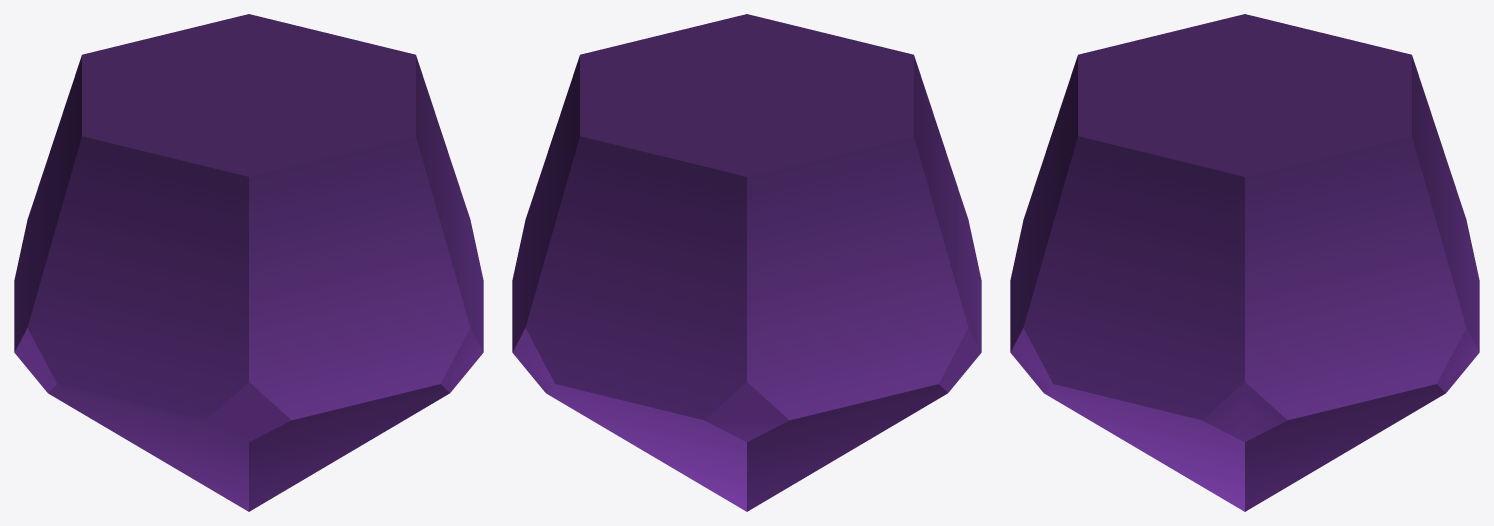
The model's file is decor_010.fbx.
3 views of the same model, side by side, from view 1: azimuth 30°, elevation 25°; view 2: azimuth 150°, elevation 25°; view 3: azimuth 270°, elevation 25° (orthographic).
Visible parts, largest first — view 1: decor.010; view 2: decor.010; view 3: decor.010.
Part boxes in pixels (box(x1,y1,x2,y2)): decor.010: box(14, 14, 483, 511); decor.010: box(512, 14, 981, 511); decor.010: box(1010, 14, 1479, 511).
Bounding box in the file's own units: 8.06 × 7.24 × 7.39.
